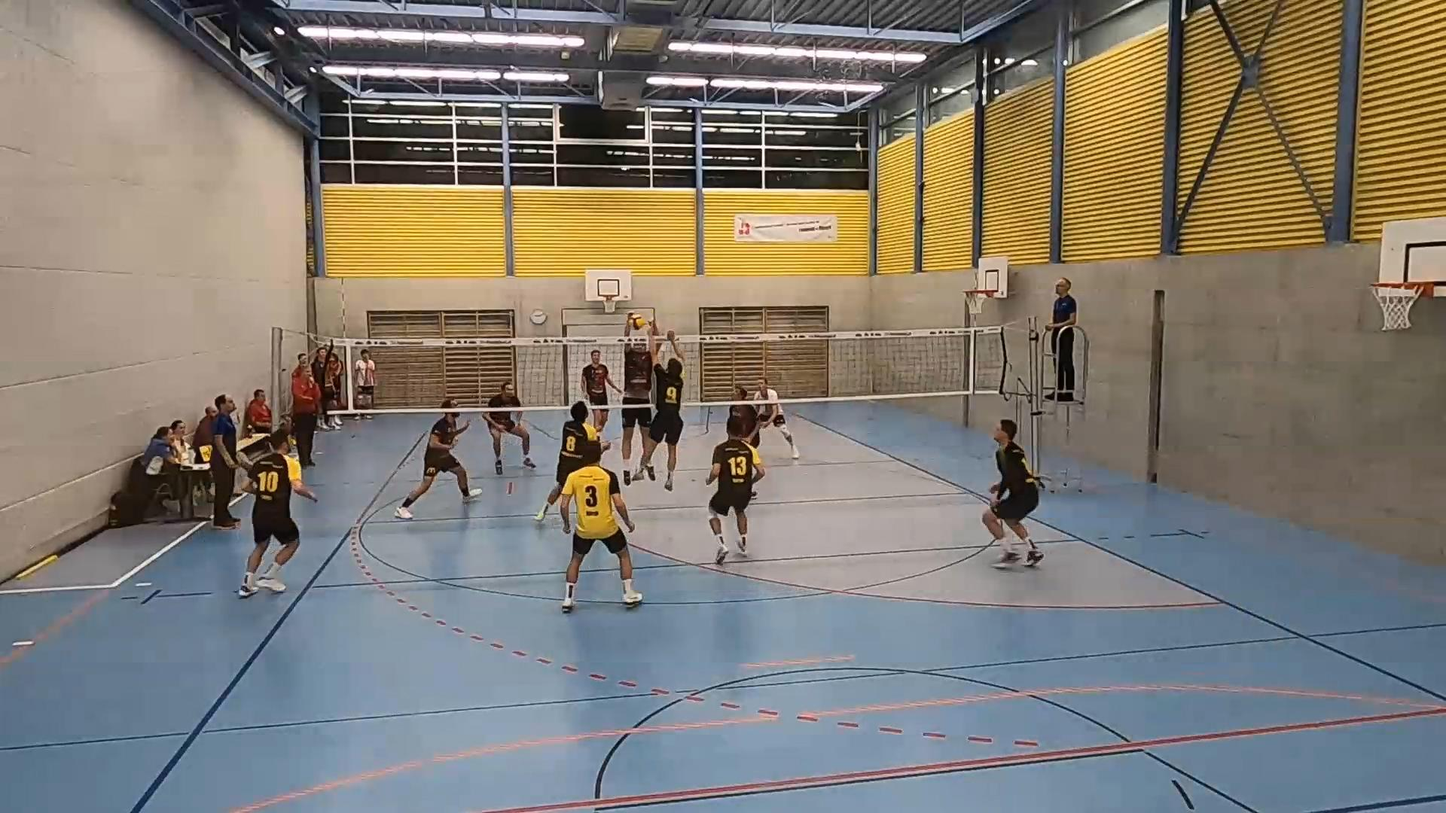attacco: (616, 322, 657, 492)
muro: (633, 332, 687, 488)
